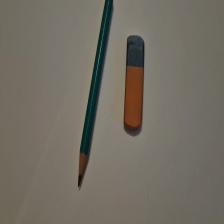eraser: (125, 36, 146, 132)
pencil: (79, 1, 114, 188)
